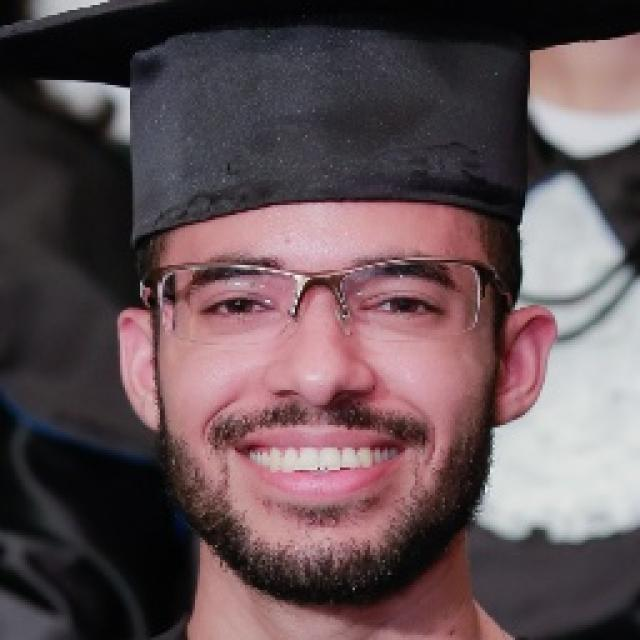earlobe: (492, 305, 558, 425), (117, 308, 162, 430)
